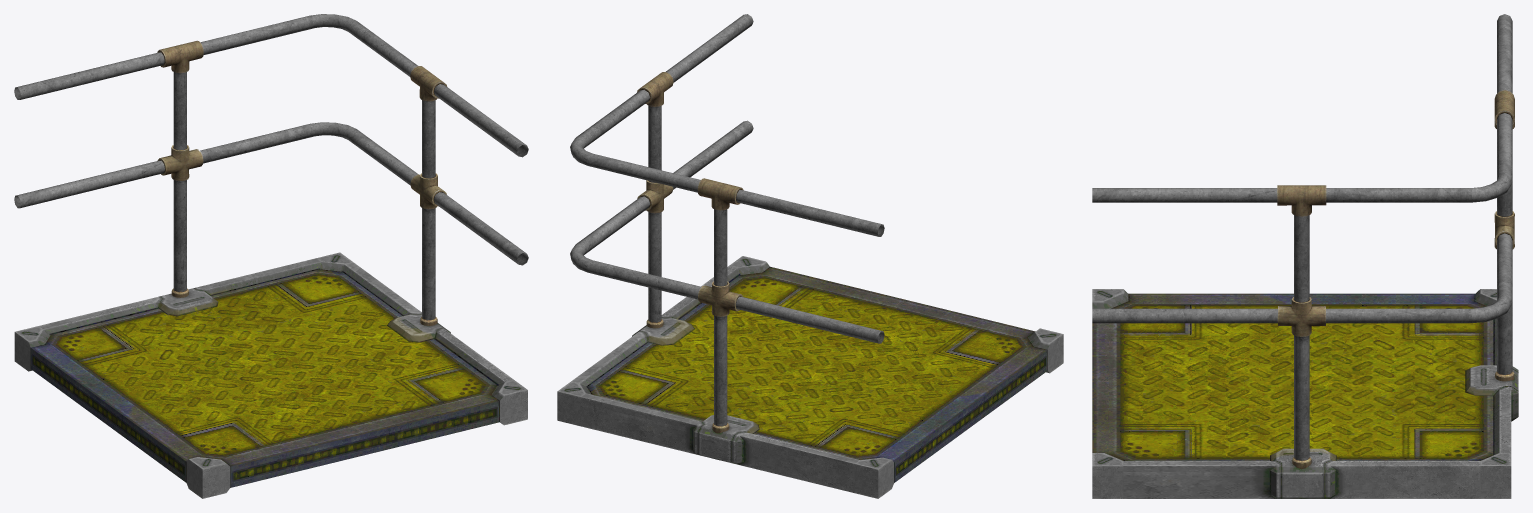
File: catwalk_turn.dae
3 renders of one model, left to right at view 1: azimuth 30°, elevation 25°; view 2: azimuth 150°, elevation 25°; view 3: azimuth 270°, elevation 25°, orthographic. The views are drawn at different scales.
Visible parts, largest first — view 1: turn, railing__3_; view 2: turn, railing__3_; view 3: turn, railing__3_.
Boxes of the visible parts, bbox=[...] form: turn: bbox=[14, 252, 527, 498]; railing__3_: bbox=[14, 14, 528, 325]; turn: bbox=[557, 256, 1063, 498]; railing__3_: bbox=[570, 14, 884, 433]; turn: bbox=[1092, 289, 1518, 498]; railing__3_: bbox=[1092, 14, 1514, 468].
Size of the model in its own units: 2.03 by 1.63 by 2.03.
